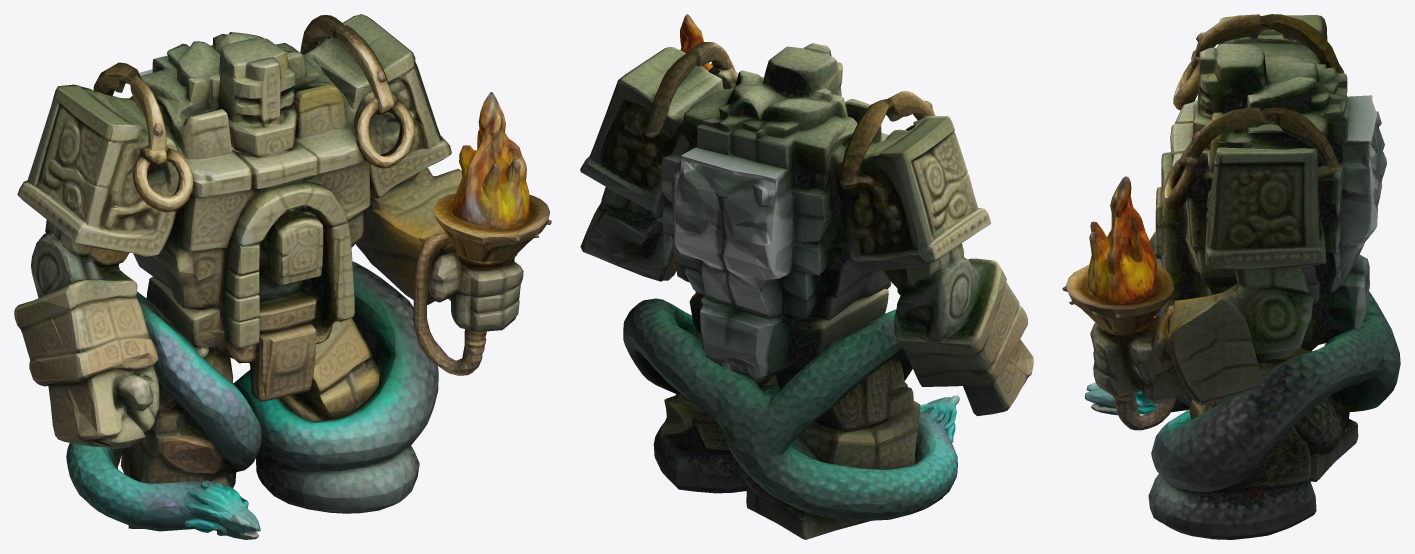
The model's file is bulwyrm__harbourColossus.glb.
3 views of the same model, side by side, from view 1: azimuth 30°, elevation 25°; view 2: azimuth 150°, elevation 25°; view 3: azimuth 270°, elevation 25° (orthographic). The views are drawn at different scales.
Parts seen in each view (by area): view 1: world; view 2: world; view 3: world.
Part boxes in pixels (box(x1,y1,x2,y2)): world: box(14, 14, 551, 539); world: box(580, 14, 1033, 539); world: box(1062, 14, 1400, 539).
Size of the model in its own units: 0.9986 by 0.9584 by 0.6954.
Materials: 1 (1 with a texture image).
